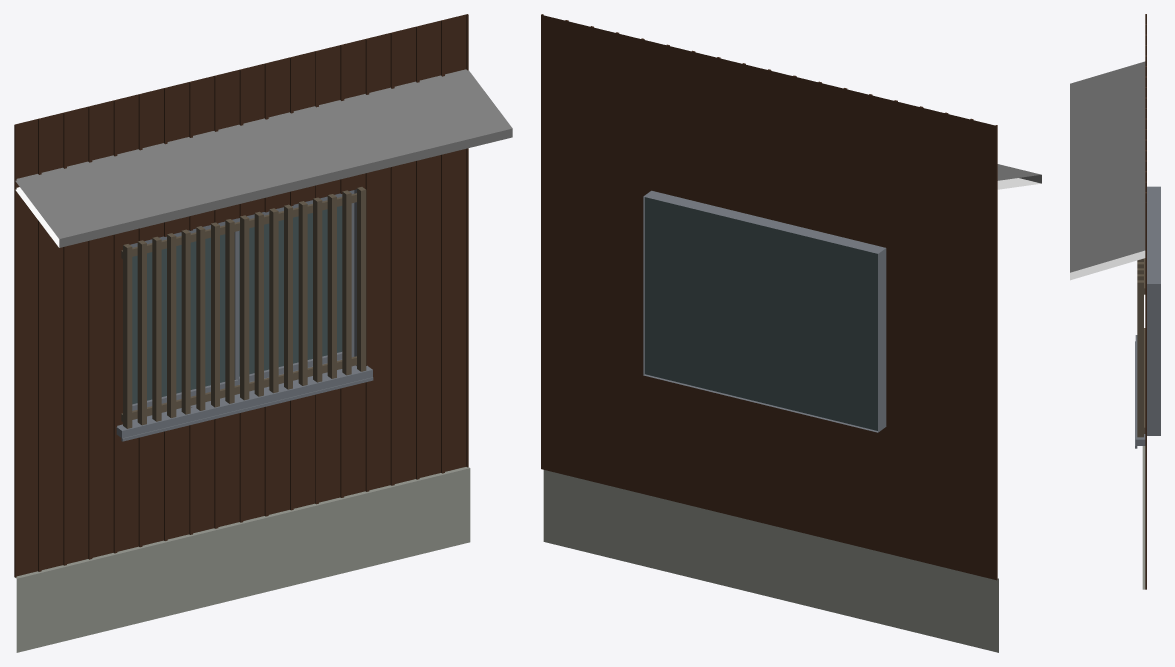
The model's file is base-w1_close.fbx.
3 renders of one model, left to right at view 1: azimuth 30°, elevation 25°; view 2: azimuth 150°, elevation 25°; view 3: azimuth 270°, elevation 25°, orthographic. The views are drawn at different scales.
Visible parts, largest first — view 1: a2000/0/base-w1_close; view 2: a2000/0/base-w1_close; view 3: a2000/0/base-w1_close.
Boxes of the visible parts, x1,y1,x2,y2 form: a2000/0/base-w1_close: (14, 14, 512, 652); a2000/0/base-w1_close: (541, 14, 1041, 652); a2000/0/base-w1_close: (1070, 14, 1160, 589).
Bounding box in the file's own units: 3.2 × 3.55 × 0.65.
